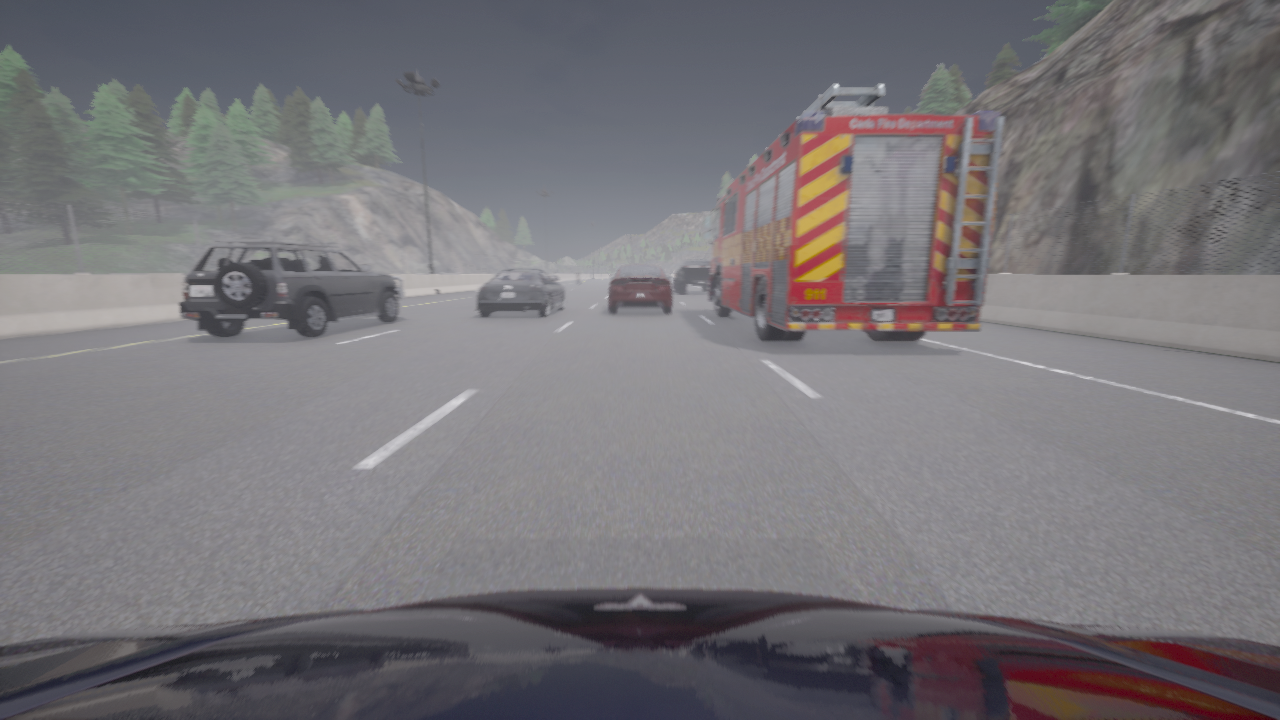cyclist: (0, 588, 1279, 719), (702, 84, 1003, 341), (178, 240, 403, 337), (475, 268, 565, 317), (609, 264, 671, 312), (673, 259, 710, 293), (575, 275, 579, 283), (550, 275, 553, 276)
